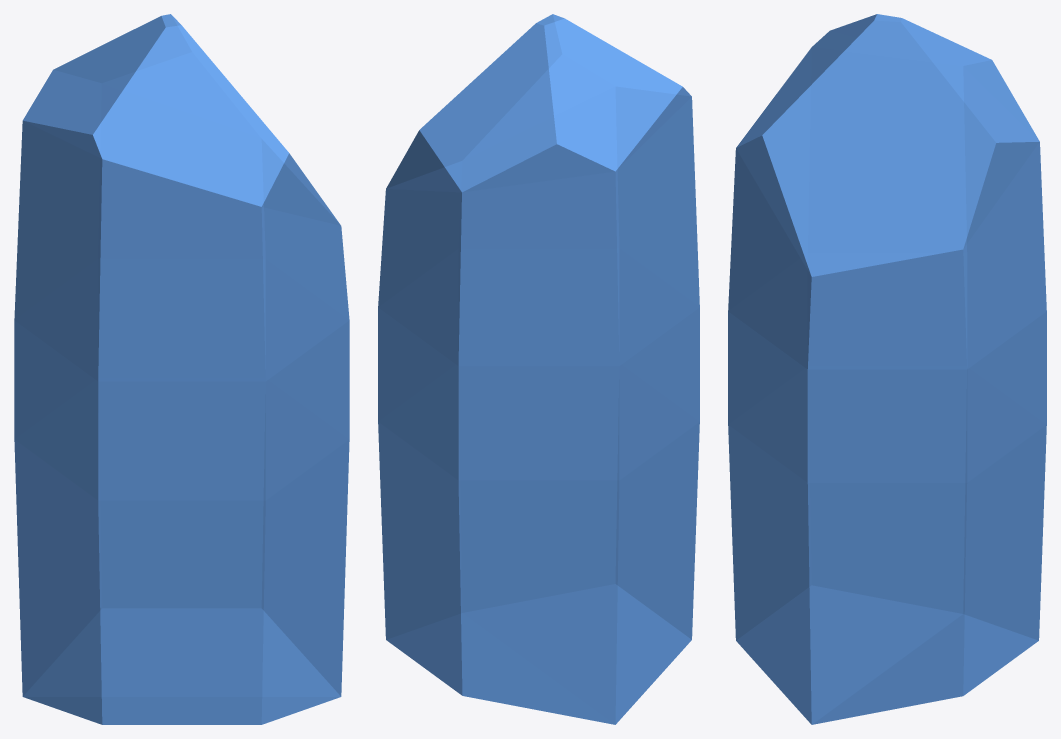
Rendered from Crystal_m_11.fbx.
The picture shows the model from 3 angles, left to right: view 1: azimuth 30°, elevation 25°; view 2: azimuth 150°, elevation 25°; view 3: azimuth 270°, elevation 25°; orthographic projection. The views are drawn at different scales.
Parts seen in each view (by area): view 1: Crystal_m_11; view 2: Crystal_m_11; view 3: Crystal_m_11.
Boxes of the visible parts, x1,y1,x2,y2 form: Crystal_m_11: (14, 14, 349, 724); Crystal_m_11: (378, 14, 699, 724); Crystal_m_11: (728, 14, 1046, 724).
Bounding box in the file's own units: 0.8503 × 2.19 × 0.9818.
